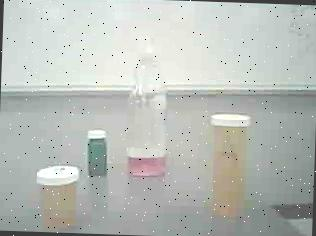Bottle A: (201, 104, 260, 230)
Bottle B: (32, 158, 87, 230)
Bottle C: (79, 125, 118, 184)
hazard: (121, 25, 180, 191)
